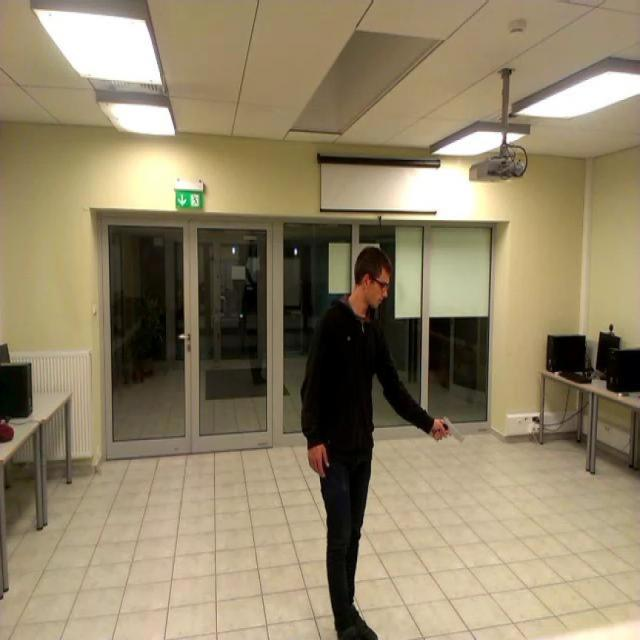pistol: (433, 414, 465, 442)
